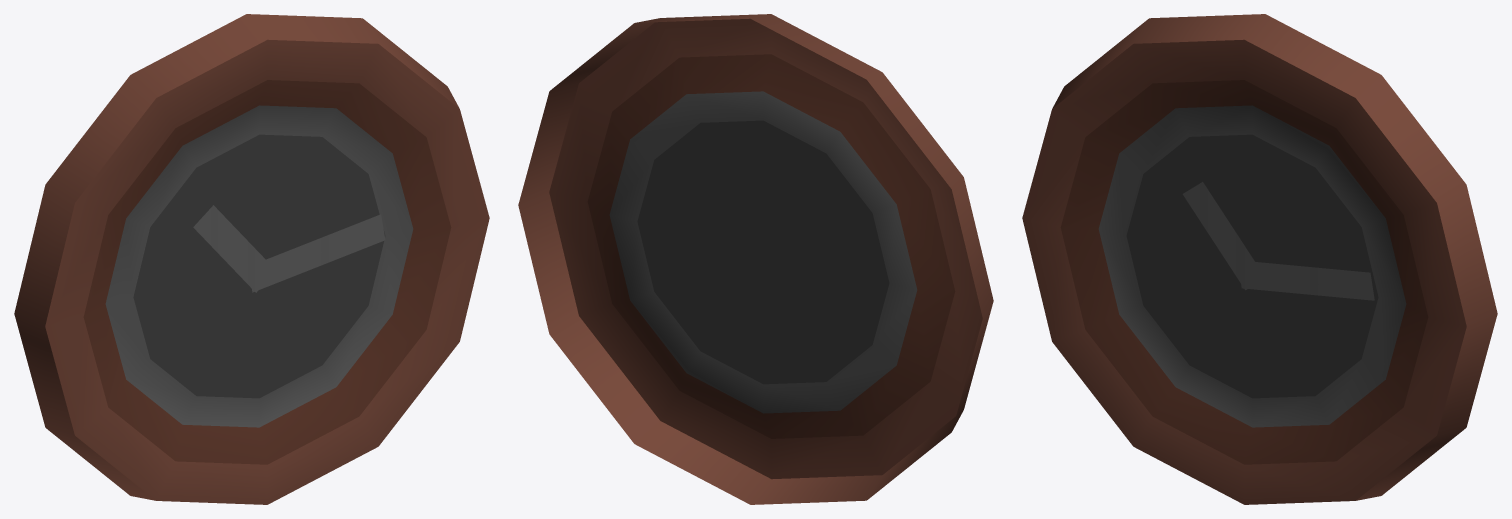
File: Clock.fbx
3 views of the same model, side by side, from view 1: azimuth 30°, elevation 25°; view 2: azimuth 150°, elevation 25°; view 3: azimuth 330°, elevation 25° (orthographic).
Visible parts, largest first — view 1: Clock; view 2: Clock; view 3: Clock.
Boxes of the visible parts, <box> form: Clock: <box>14,14,489,504</box>; Clock: <box>518,14,993,504</box>; Clock: <box>1022,14,1497,504</box>.
Bounding box in the file's own units: 51.08 × 51.08 × 3.98.
